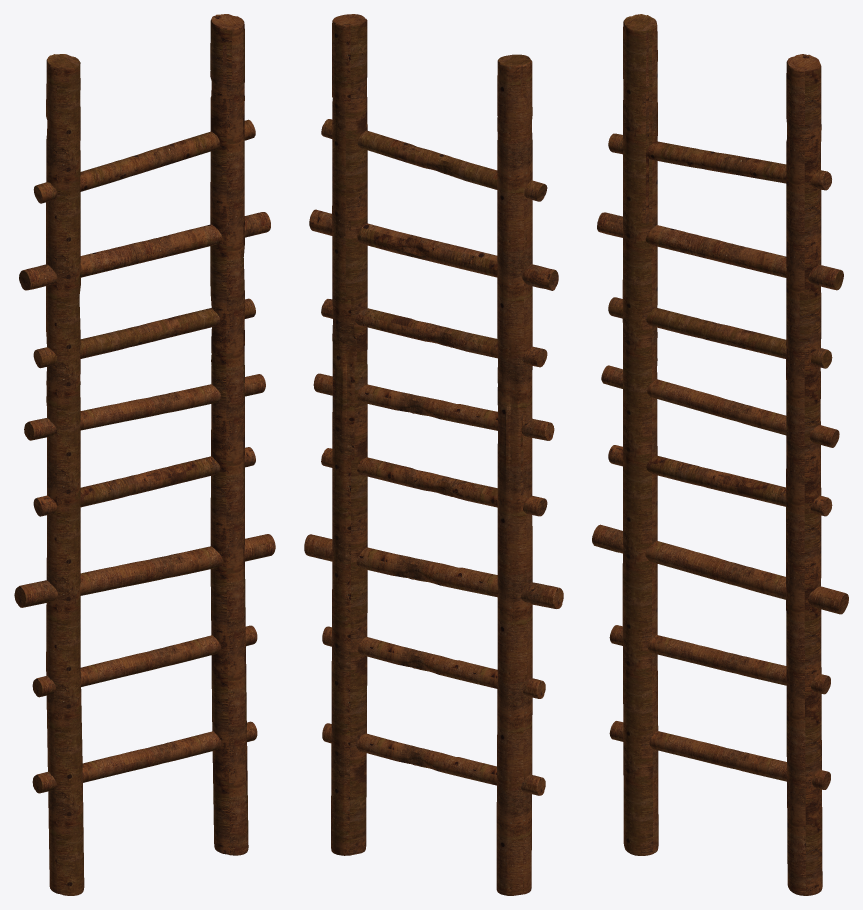
Rendered from Stair ghost.fbx.
The picture shows the model from 3 angles, left to right: view 1: azimuth 30°, elevation 25°; view 2: azimuth 150°, elevation 25°; view 3: azimuth 330°, elevation 25°; orthographic projection.
Visible parts, largest first — view 1: stair1; view 2: stair1; view 3: stair1.
Boxes of the visible parts, bbox=[...] form: stair1: bbox=[14, 14, 275, 895]; stair1: bbox=[304, 14, 563, 895]; stair1: bbox=[592, 14, 848, 895].
Bounding box in the file's own units: 2.14 × 6.76 × 0.2829.
1 material, 1 textured.
